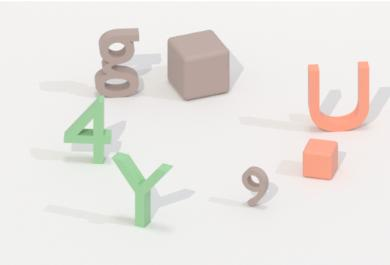0-KhoiVuong: (162, 23, 237, 106), (109, 148, 175, 232), (300, 133, 344, 186)
4: (54, 92, 113, 169)
9: (240, 165, 271, 211)
U: (302, 57, 374, 135)
g: (93, 22, 144, 101)
